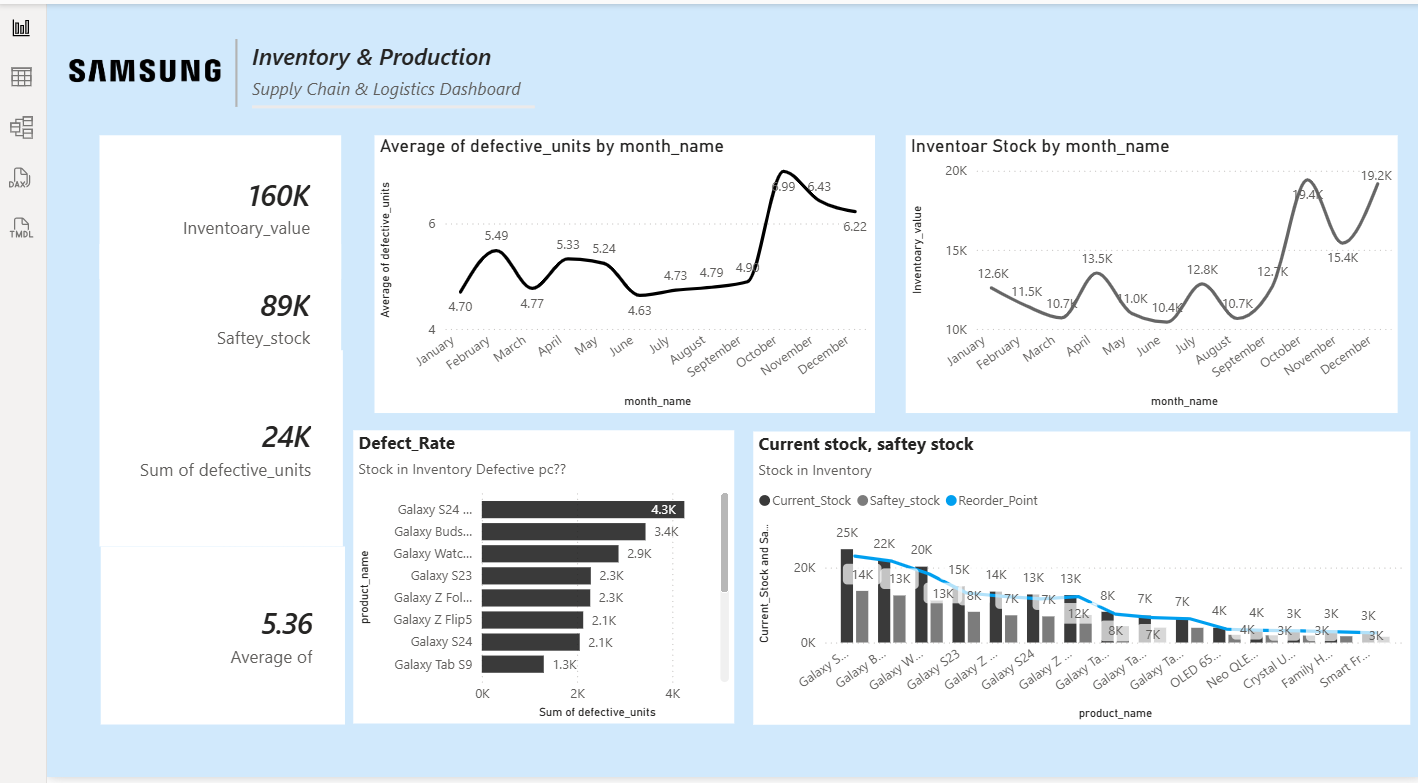

This screenshot's page, from the dashboard's own definition file:
{"tool":"powerbi","page":{"name":"Inventory","canvas":[1280,720],"ordinal":3},"visuals":[{"type":"shape","title":"Inventory & Production","box":[190.1,33.3,263,63],"z":0},{"type":"shape","box":[156.4,32.9,38.4,63.1],"z":1000},{"type":"image","box":[9.6,35.7,156.4,50.8],"z":2000},{"type":"cardVisual","fields":{"Data":["MeasureTable.Inventoary_value"]},"box":[48.9,122.3,225,133.3],"z":3000},{"type":"cardVisual","fields":{"Data":["MeasureTable.Saftey_stock"]},"box":[48.9,223.8,225,135.7],"z":4000},{"type":"cardVisual","fields":{"Data":["Sum(fact_production.defective_units)"]},"box":[48.9,321.6,226.2,182.2],"z":5000},{"type":"cardVisual","fields":{"Data":["Avg(fact_production.defective_units)"]},"box":[49.5,504.3,226.8,165.3],"z":6000},{"type":"clusteredBarChart","title":"Defect_Rate","fields":{"Category":["dim_product.product_name"],"Y":["Sum(fact_production.defective_units)"]},"box":[284.7,396.9,354.7,272.7],"z":7000},{"type":"lineClusteredColumnComboChart","title":"Current stock, saftey stock ","fields":{"Category":["dim_product.product_name"],"Y":["MeasureTable.Inventoary_value","MeasureTable.Saftey_stock"],"Y2":["MeasureTable.Reorder_Point"]},"box":[656.7,397.4,611.4,272.7],"z":8000},{"type":"lineChart","fields":{"Category":["dim_date.month_name"],"Y":["Avg(fact_production.defective_units)"]},"box":[305.2,121.9,465.7,258.2],"z":9000},{"type":"lineChart","title":"Inventoar Stock by month_name","fields":{"Category":["dim_date.month_name"],"Y":["MeasureTable.Inventoary_value"]},"box":[798.7,121.9,457.2,258.2],"z":10000}]}

Visuals, with their boxes on the page's 1280x720 design canvas (x1, y1, x2, y2). These are canvas units, not pixel positions in the 1418x783 screenshot, which may show the page scaled, cropped or inside an application window:
"Inventory & Production" shape: (190,33,453,96)
shape: (156,33,195,96)
image: (10,36,166,86)
cardVisual - MeasureTable.Inventoary_value: (49,122,274,256)
cardVisual - MeasureTable.Saftey_stock: (49,224,274,360)
cardVisual - Sum(fact_production.defective_units): (49,322,275,504)
cardVisual - Avg(fact_production.defective_units): (50,504,276,670)
"Defect_Rate" clusteredBarChart: (285,397,639,670)
"Current stock, saftey stock " lineClusteredColumnComboChart: (657,397,1268,670)
lineChart - dim_date.month_name x Avg(fact_production.defective_units): (305,122,771,380)
"Inventoar Stock by month_name" lineChart: (799,122,1256,380)
